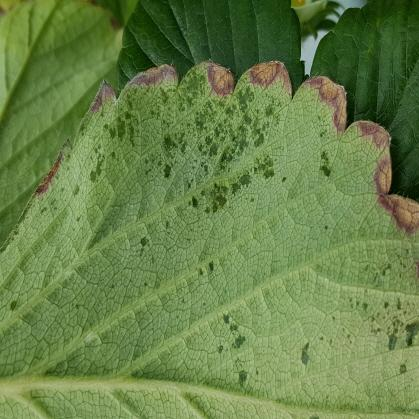Angular Leafspot: (0, 58, 418, 418)
